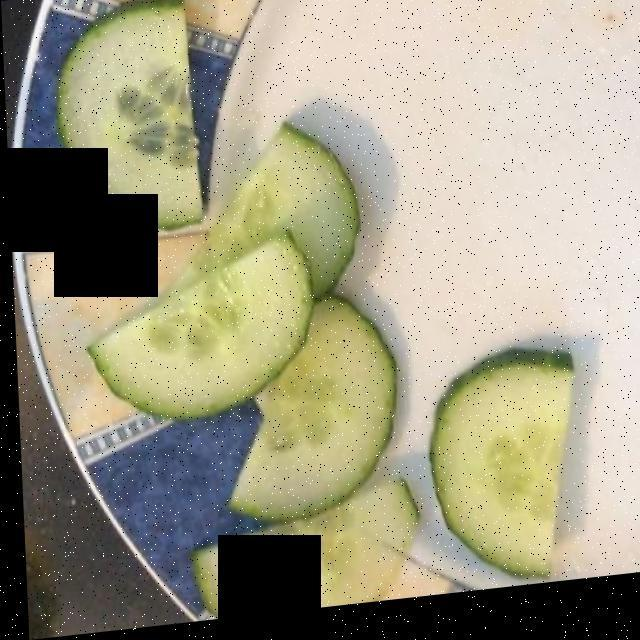cucumber: (71, 5, 565, 615)
